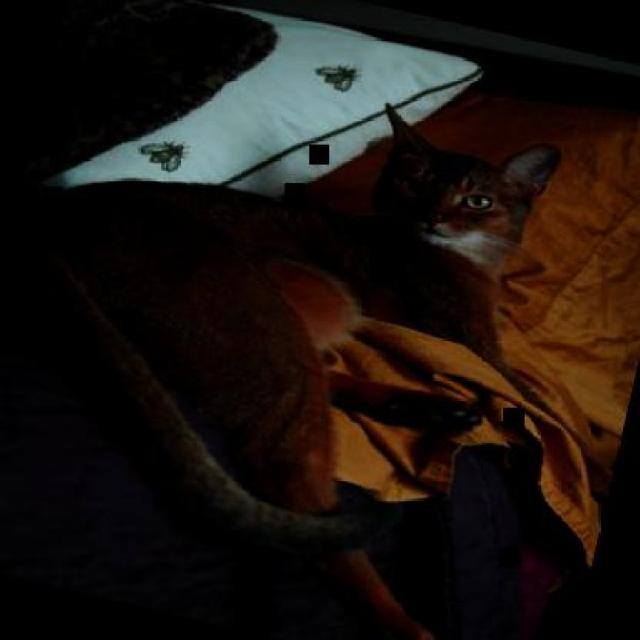cat: (0, 27, 638, 638)
